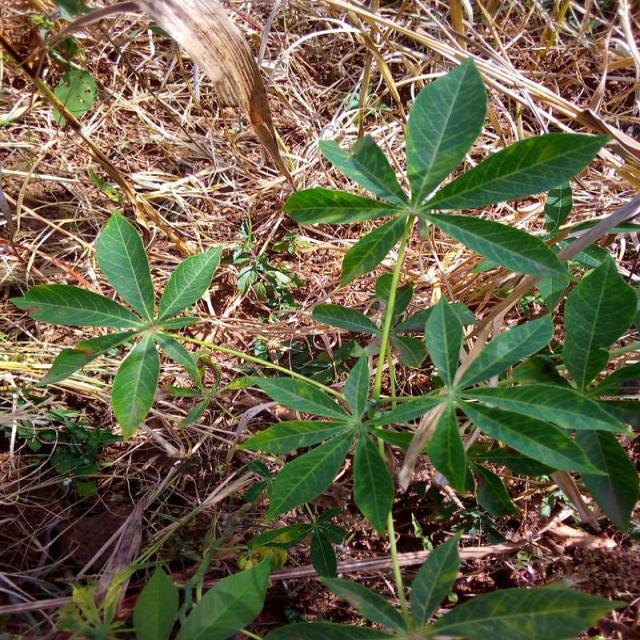cassava leaf: (9, 208, 222, 441), (404, 55, 487, 208)
